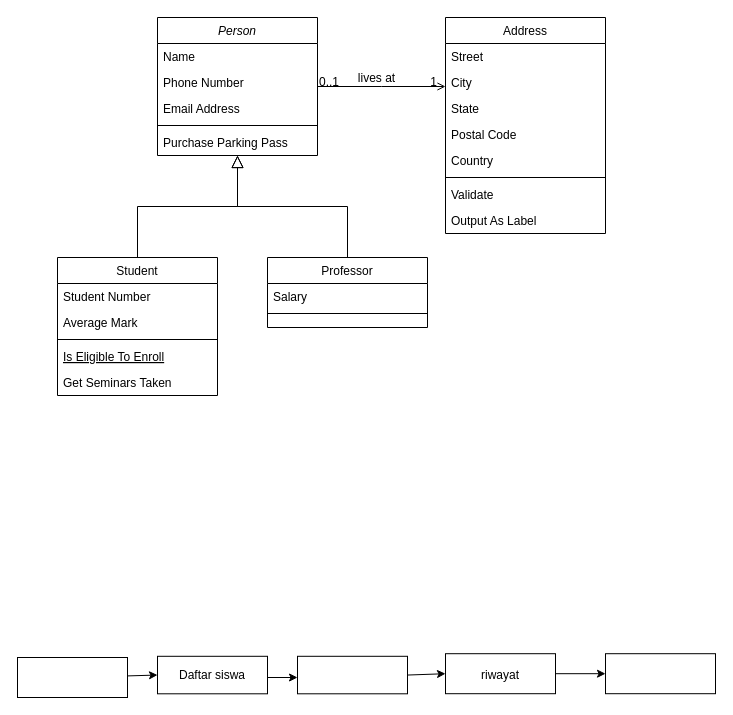
Image size: 733x715. Some labels were removed from this diagram. The centre of each missing label's shape, as x and y in pixels:
"log in" belongs at [72,677].
"rekap" belongs at [660,673].
"Transaksi" belongs at [352,674].
